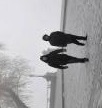person: (39, 48, 89, 71), (41, 31, 89, 48)
